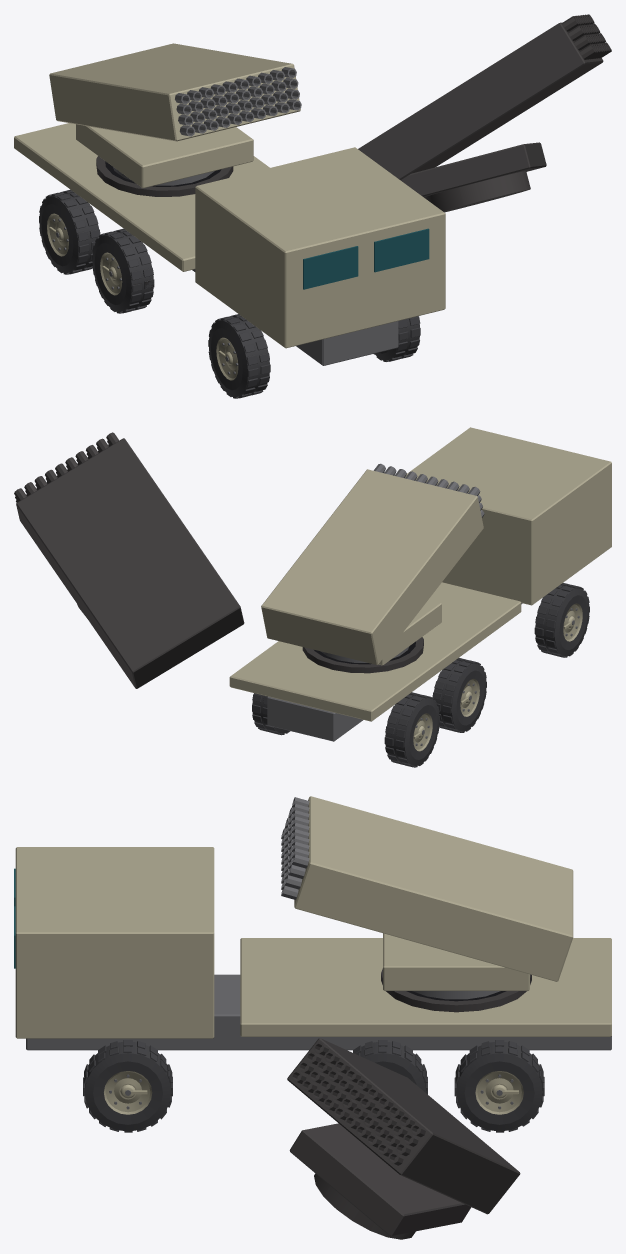
The model's file is mlrs__t_122_sakarya.glb.
3 renders of one model, top to bottom at view 1: azimuth 30°, elevation 25°; view 2: azimuth 150°, elevation 25°; view 3: azimuth 270°, elevation 25°, orthographic. The views are drawn at different scales.
Parts seen in each view (by area): view 1: Hull_Mesh, Wreck, Gun_Mesh, Turret_Mesh, Wheel_L1_Mesh, Wheel_L2_Mesh, Wheel_L0_Mesh, Wheel_R2_Mesh; view 2: Hull_Mesh, Wreck, Gun_Mesh, Wheel_L0_Mesh, Wheel_L2_Mesh, Wheel_L1_Mesh, Turret_Mesh, Wheel_R0_Mesh; view 3: Hull_Mesh, Gun_Mesh, Wreck, Wheel_R0_Mesh, Wheel_R2_Mesh, Turret_Mesh, Wheel_R1_Mesh.
Boxes of the visible parts, <box> form: Hull_Mesh: <box>14,123,445,365</box>; Wreck: <box>82,14,611,397</box>; Gun_Mesh: <box>49,43,301,141</box>; Turret_Mesh: <box>76,124,253,188</box>; Wheel_L1_Mesh: <box>92,228,154,313</box>; Wheel_L2_Mesh: <box>208,314,270,398</box>; Wheel_L0_Mesh: <box>39,189,100,274</box>; Wheel_R2_Mesh: <box>374,316,420,361</box>; Hull_Mesh: <box>229,427,611,741</box>; Wreck: <box>14,432,569,765</box>; Gun_Mesh: <box>261,463,484,664</box>; Wheel_L0_Mesh: <box>384,692,439,767</box>; Wheel_L2_Mesh: <box>534,583,589,657</box>; Wheel_L1_Mesh: <box>432,658,486,732</box>; Turret_Mesh: <box>321,600,441,665</box>; Wheel_R0_Mesh: <box>252,693,290,735</box>; Hull_Mesh: <box>14,847,611,1050</box>; Gun_Mesh: <box>281,796,573,981</box>; Wreck: <box>129,968,531,1239</box>; Wheel_R0_Mesh: <box>454,1040,544,1132</box>; Wheel_R2_Mesh: <box>83,1040,172,1132</box>; Turret_Mesh: <box>383,933,529,999</box>; Wheel_R1_Mesh: <box>353,1040,427,1094</box>.
Size of what is drawn, in the model's own units: 7.42 by 3.33 by 6.92.
